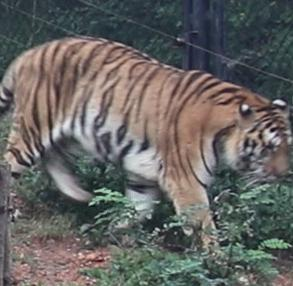tiger: (0, 37, 291, 233)
